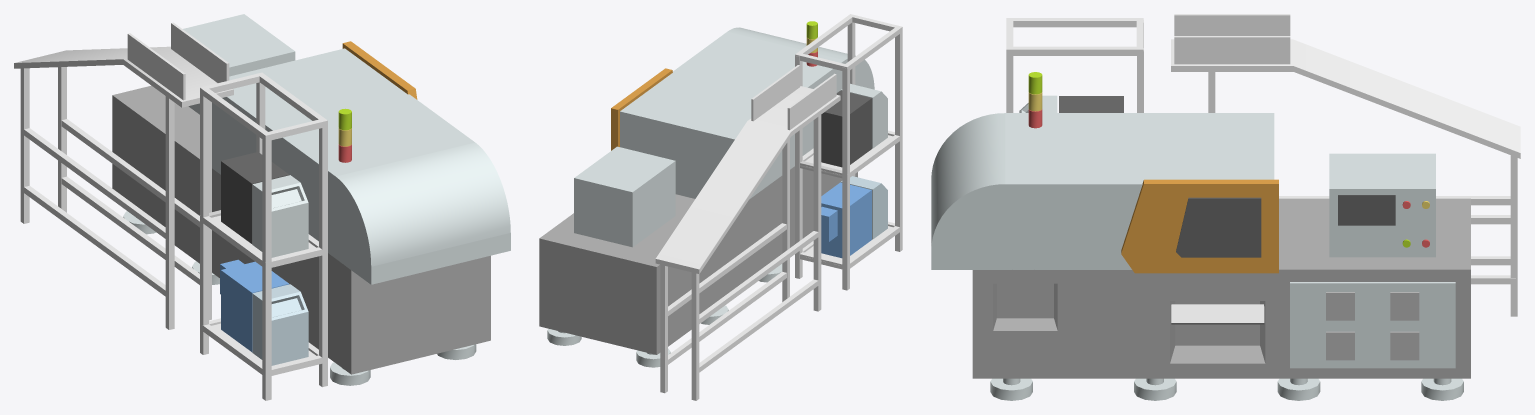
The model's file is platformOne.glb.
3 renders of one model, left to right at view 1: azimuth 30°, elevation 25°; view 2: azimuth 150°, elevation 25°; view 3: azimuth 270°, elevation 25°, orthographic. The views are drawn at different scales.
Parts seen in each view (by area): view 1: 立方体.1 (×2), 立方体 (×2), 立方体.10 (×2), 立方体.31, 立方体.4, 立方体.33, 立方体.32, 立方体.34, 立方体.14, 立方体.8 (×2), 立方体.13, 立方体.16 (+16 smaller); view 2: 立方体 (×2), 立方体.1 (×2), 立方体.10 (×2), 立方体.4, 立方体.32, 立方体.34, 立方体.8 (×2), 立方体.16, 立方体.14, 立方体.7, 立方体.9, 立方体.6 (+17 smaller); view 3: 立方体, 立方体.1, 立方体.2, 立方体.4 (×2), 立方体.8, 立方体.10, 立方体.9 (×2), 立方体.5 (×2), 立方体.6 (×2), 圆柱 (×4), 立方体.3 (×2), 立方体.7 (+4 smaller).
Part boxes in pixels (x1,y1,x2,y2): 立方体.1 (×2): [209, 48, 510, 320]; 立方体 (×2): [112, 85, 490, 374]; 立方体.10 (×2): [61, 14, 295, 227]; 立方体.31: [252, 175, 308, 257]; 立方体.4: [14, 46, 233, 107]; 立方体.33: [252, 284, 308, 365]; 立方体.32: [221, 152, 288, 243]; 立方体.34: [221, 261, 288, 351]; 立方体.14: [262, 136, 271, 400]; 立方体.8 (×2): [61, 41, 417, 284]; 立方体.13: [319, 122, 327, 386]; 立方体.16: [200, 94, 208, 354]; 立方体 (×2): [539, 115, 857, 354]; 立方体.1 (×2): [620, 27, 874, 301]; 立方体.10 (×2): [574, 146, 786, 315]; 立方体.4: [655, 86, 840, 273]; 立方体.32: [821, 90, 871, 167]; 立方体.34: [821, 182, 871, 258]; 立方体.8 (×2): [611, 68, 786, 364]; 立方体.16: [842, 67, 849, 290]; 立方体.14: [895, 32, 902, 251]; 立方体.7: [697, 279, 818, 373]; 立方体.9: [699, 231, 818, 323]; 立方体.6: [787, 73, 836, 130]; 立方体: [972, 198, 1470, 378]; 立方体.1: [931, 113, 1274, 269]; 立方体.2: [1290, 282, 1455, 368]; 立方体.4 (×2): [1171, 39, 1520, 360]; 立方体.8: [1121, 179, 1278, 273]; 立方体.10: [1329, 153, 1435, 257]; 立方体.9 (×2): [1176, 196, 1510, 257]; 立方体.5 (×2): [1174, 36, 1419, 360]; 立方体.6 (×2): [1174, 14, 1419, 320]; 圆柱 (×4): [990, 378, 1463, 400]; 立方体.3 (×2): [1326, 155, 1517, 320]; 立方体.7: [1171, 304, 1264, 324].
Size of the model in its own units: 71.72 by 82.53 by 158.
